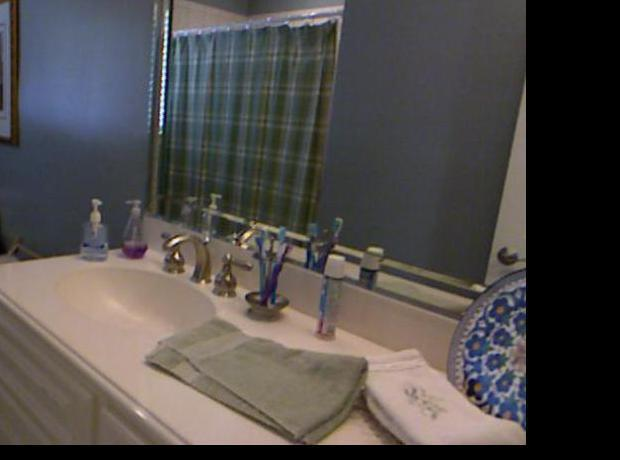Lavamanos: (49, 231, 261, 360)
